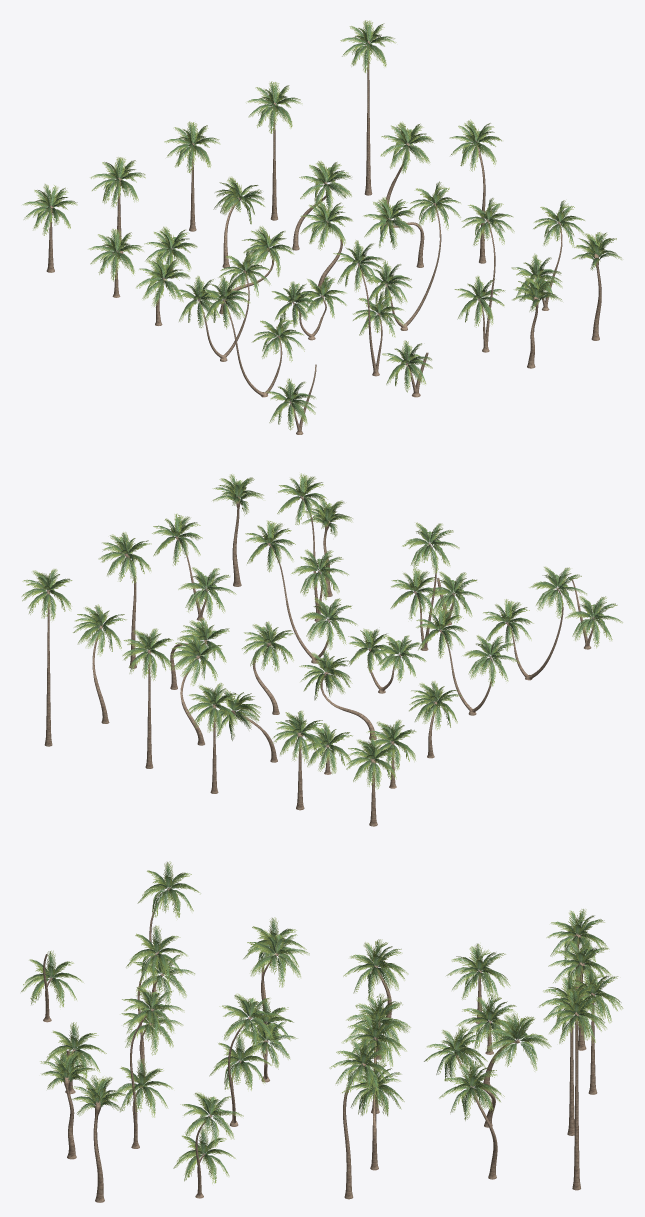
File: plant4.glb
The picture shows the model from 3 angles, top to bottom: view 1: azimuth 30°, elevation 25°; view 2: azimuth 150°, elevation 25°; view 3: azimuth 270°, elevation 25°; orthographic projection. The views are drawn at different scales.
Visible parts, largest first — view 1: M_Palm_P2_31_Leaf_0, M_Palm_P2_31_Trunk_0; view 2: M_Palm_P2_31_Leaf_0, M_Palm_P2_31_Trunk_0; view 3: M_Palm_P2_31_Leaf_0, M_Palm_P2_31_Trunk_0.
Boxes of the visible parts, box(x1,y1,x2,y2) form: M_Palm_P2_31_Leaf_0: box(22, 20, 621, 430); M_Palm_P2_31_Trunk_0: box(46, 40, 601, 434); M_Palm_P2_31_Leaf_0: box(21, 473, 622, 789); M_Palm_P2_31_Trunk_0: box(44, 496, 594, 826); M_Palm_P2_31_Leaf_0: box(21, 861, 623, 1183); M_Palm_P2_31_Trunk_0: box(43, 887, 597, 1202).
Size of the model in its own units: 110 by 43.54 by 123.
4 materials, 2 textured.
